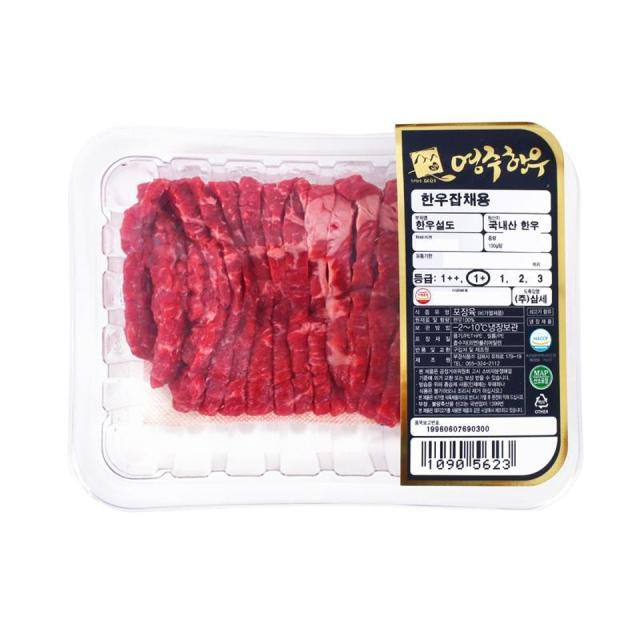beef: (123, 174, 415, 426)
